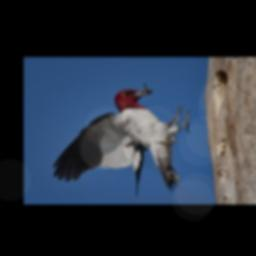Woodpecker: (51, 85, 190, 195)
